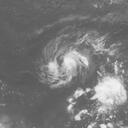cyclone: (47, 49, 83, 86)
